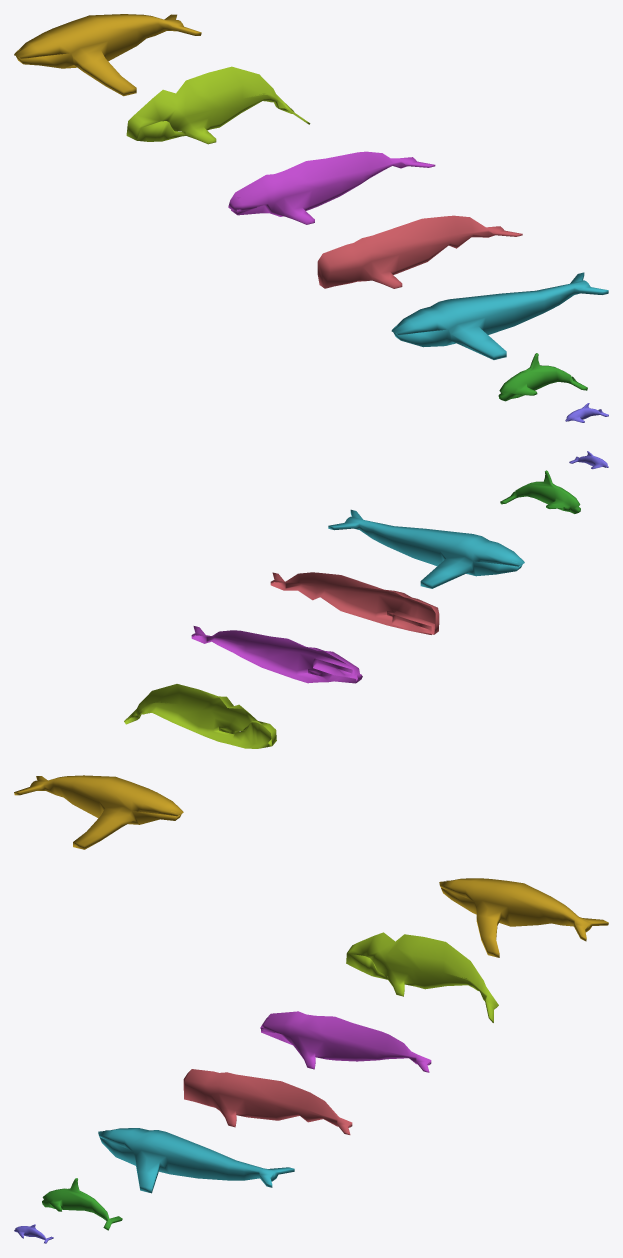
The model's file is SeaAnimals.glb.
3 renders of one model, top to bottom at view 1: azimuth 30°, elevation 25°; view 2: azimuth 150°, elevation 25°; view 3: azimuth 330°, elevation 25°, orthographic. The views are drawn at different scales.
Parts seen in each view (by area): view 1: Blue Whale, BowHead Whale, Sperm Whale, Humpback Whale, Grey Whale, Killer Whale; view 2: Blue Whale, Humpback Whale, BowHead Whale, Sperm Whale, Grey Whale, Killer Whale; view 3: BowHead Whale, Blue Whale, Sperm Whale, Humpback Whale, Grey Whale, Killer Whale.
Part boxes in pixels (bbox=[...]): Blue Whale: bbox=[391, 272, 608, 359]; BowHead Whale: bbox=[126, 66, 310, 144]; Sperm Whale: bbox=[317, 215, 522, 288]; Humpback Whale: bbox=[14, 14, 201, 96]; Grey Whale: bbox=[228, 151, 435, 224]; Killer Whale: bbox=[498, 353, 587, 401]; Blue Whale: bbox=[328, 509, 524, 588]; Humpback Whale: bbox=[14, 775, 183, 849]; BowHead Whale: bbox=[124, 684, 276, 748]; Sperm Whale: bbox=[270, 572, 439, 634]; Grey Whale: bbox=[191, 626, 362, 683]; Killer Whale: bbox=[500, 470, 580, 513]; BowHead Whale: bbox=[346, 932, 498, 1022]; Blue Whale: bbox=[98, 1128, 294, 1193]; Sperm Whale: bbox=[183, 1069, 352, 1134]; Humpback Whale: bbox=[439, 878, 608, 957]; Grey Whale: bbox=[260, 1011, 431, 1072]; Killer Whale: bbox=[42, 1178, 122, 1230].
Bounding box in the file's own units: 24.33 × 8.93 × 112.
